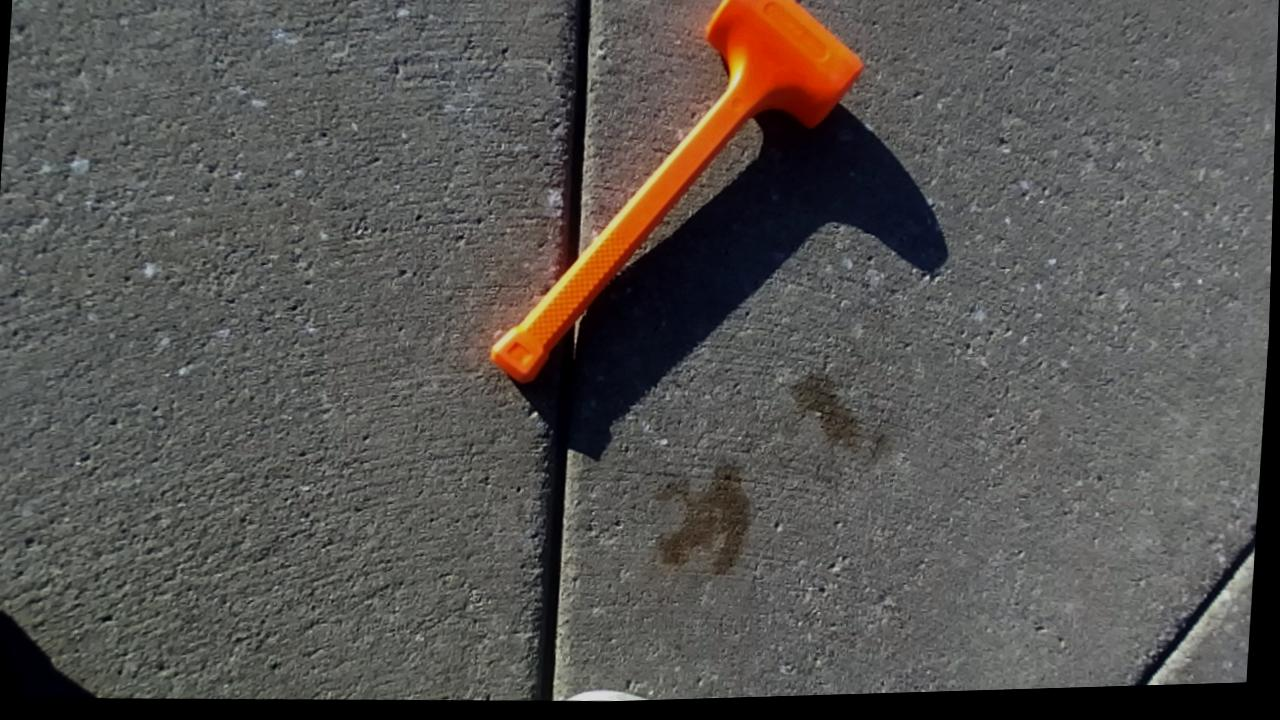mallet: (492, 0, 862, 381)
